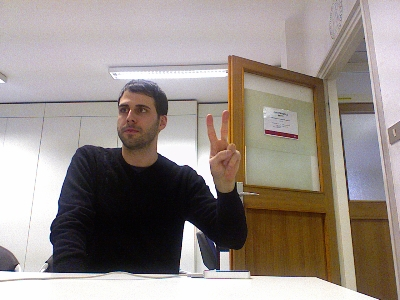剪刀: (205, 109, 241, 187)
